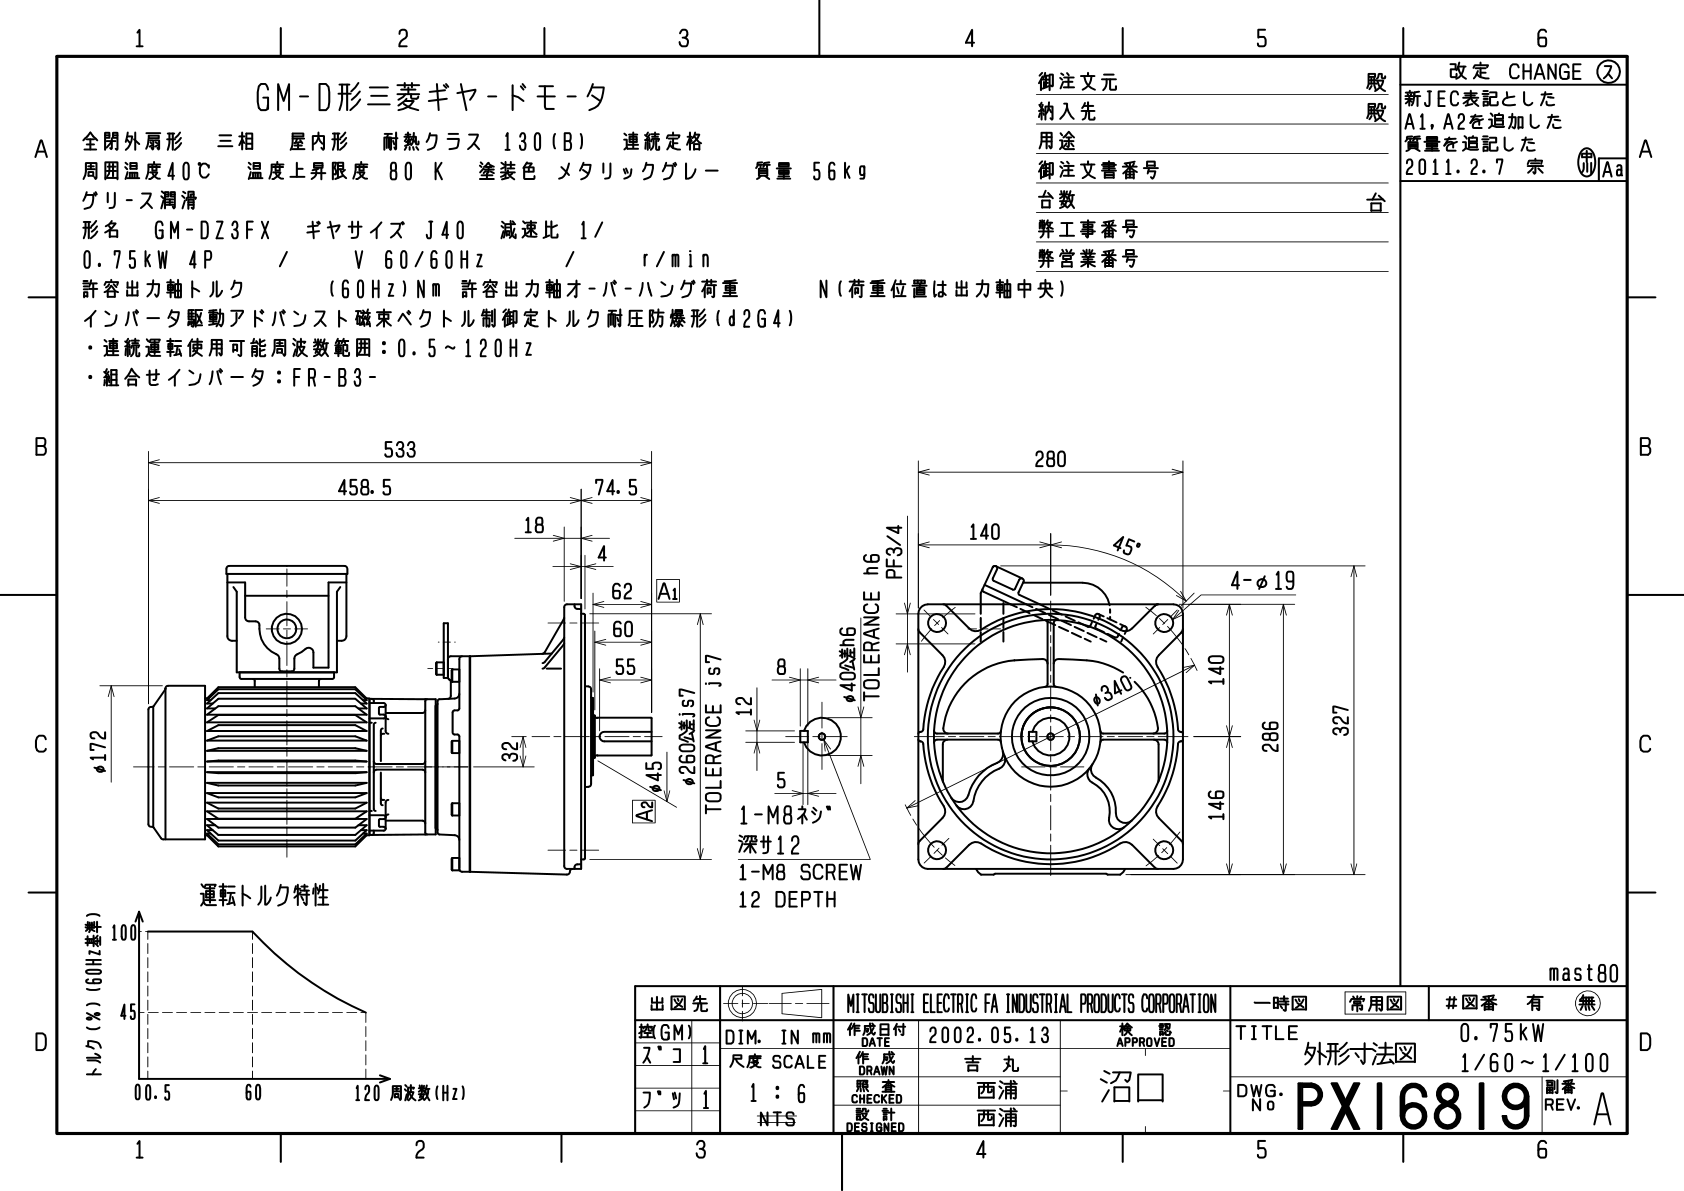GM_D_制御屋内_三相_フランジ: (1, 1, 1672, 1183)
